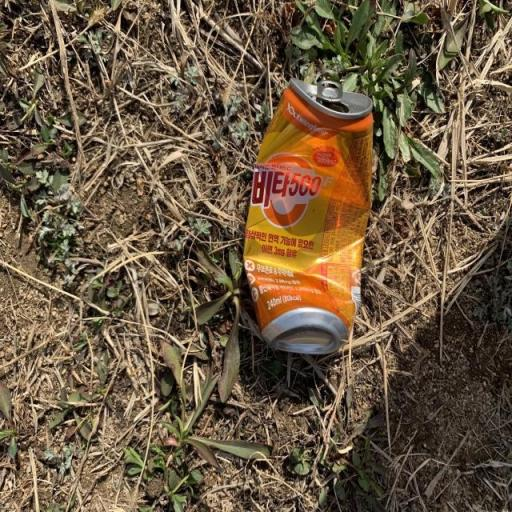metal: (233, 72, 388, 375)
